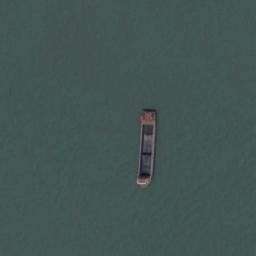boat: (136, 109, 158, 188)
